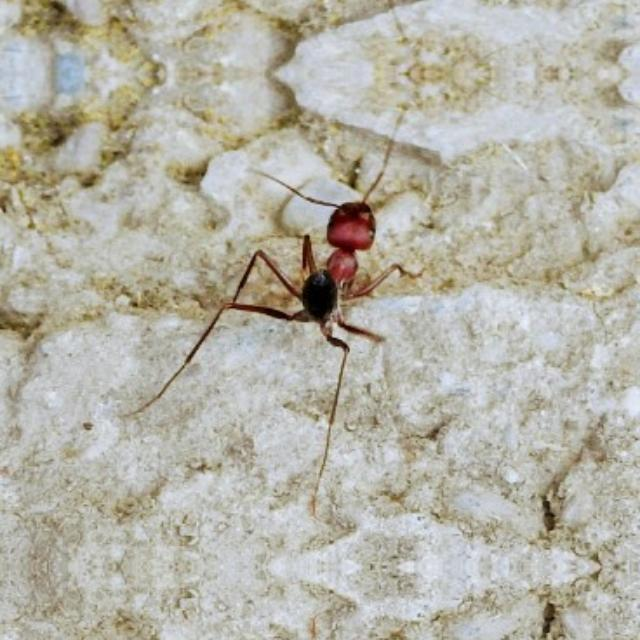Cataglyphis: (225, 162, 415, 390)
